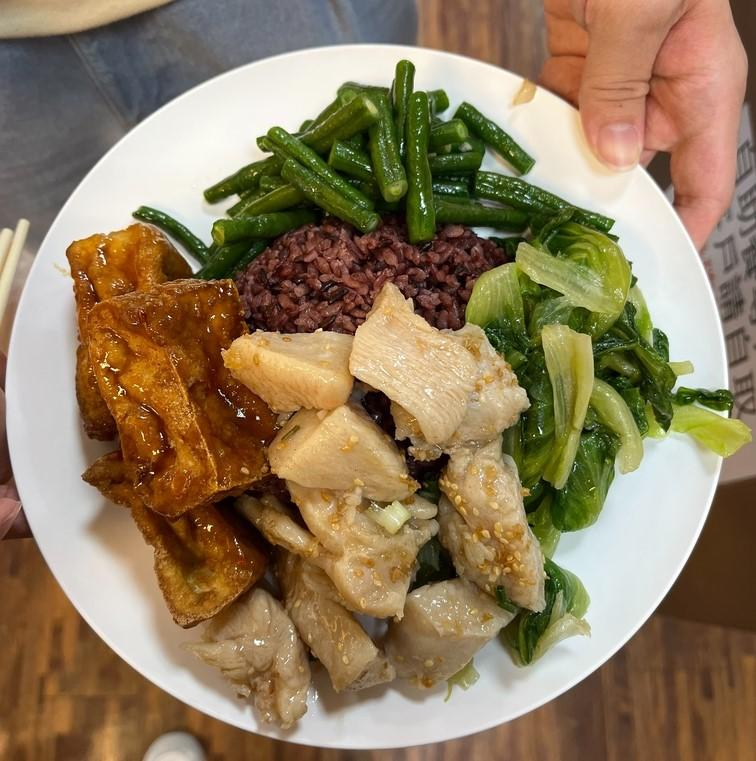big fried chicken leg: (9, 29, 739, 737)
braised fish: (227, 209, 502, 344)
braised fish fillet: (472, 227, 744, 671), (146, 59, 619, 260), (60, 207, 273, 622)
braised pork: (207, 279, 542, 727)
